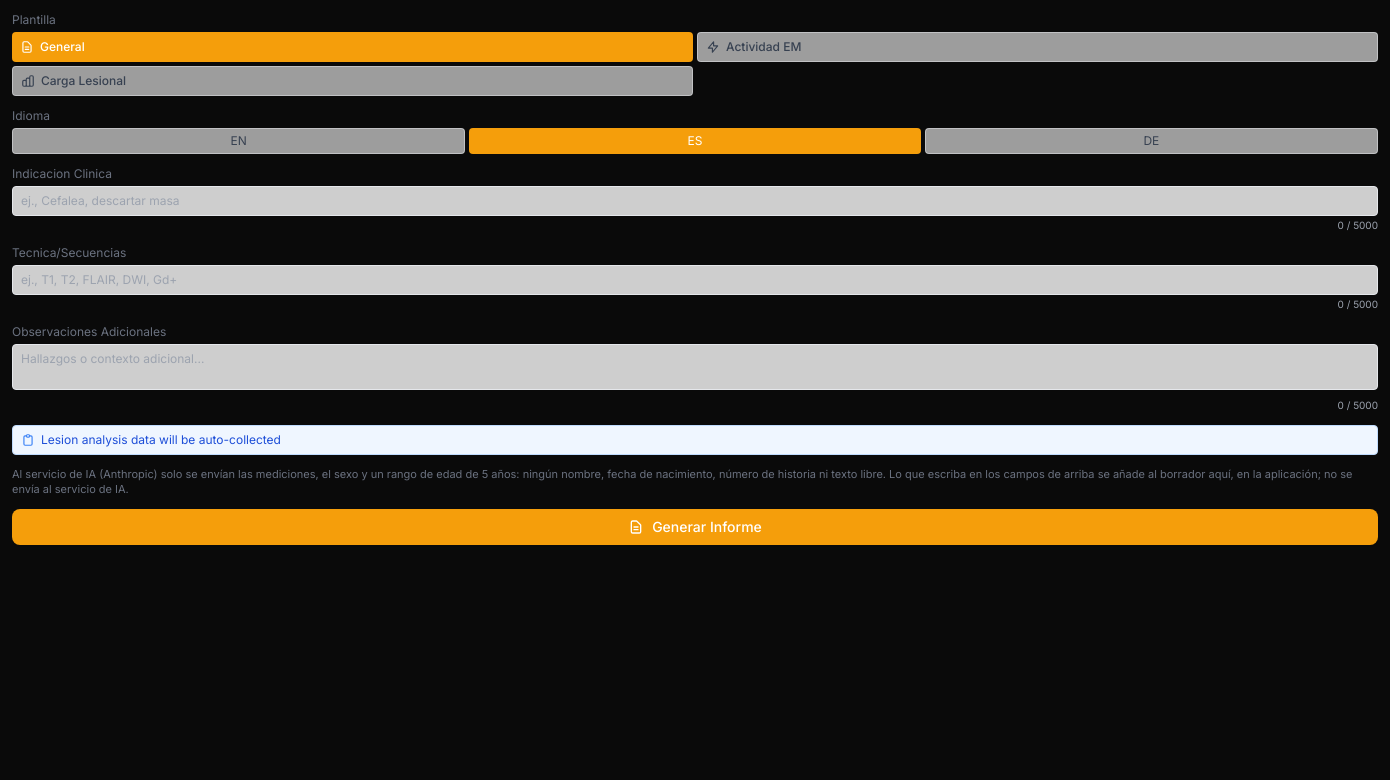
it: Release 2026-10-25: the report panel names an unreadable image geometry › rc070 release r6 a geometry 422 shows its own message, not "no measurements" (es)
The width and height of the screenshot is (1390, 780).
Click the button with test id "report-generate-button". click: (695, 527)
box: [12, 509, 1378, 545]
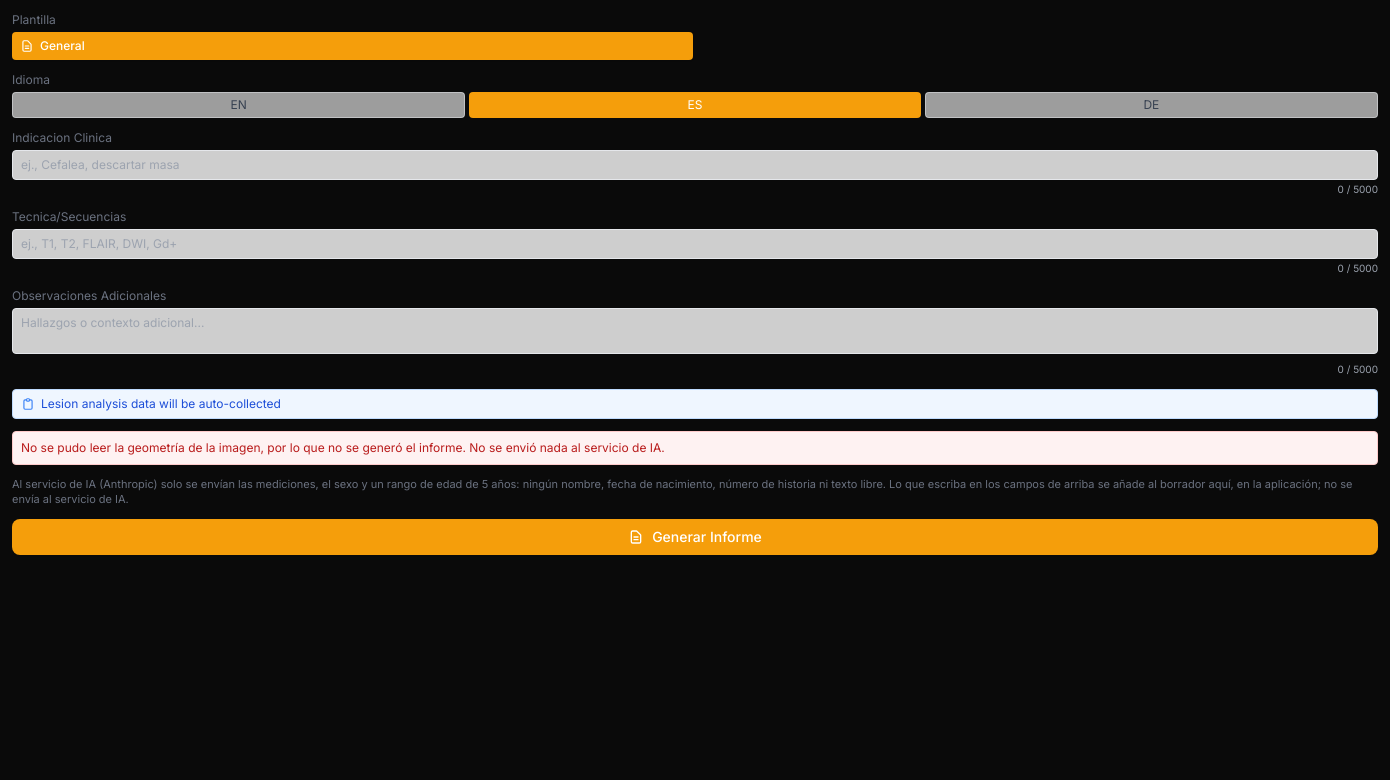
Expected: the text "No se pudo leer la geometría de la imagen, por lo que no se generó el informe. No se envió nada al servicio de IA." is shown, [21, 440, 665, 455]
